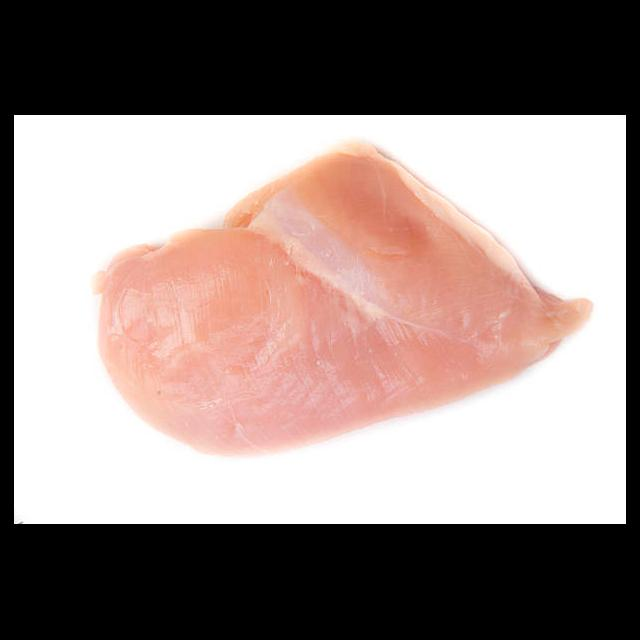chicken: (90, 140, 595, 458)
